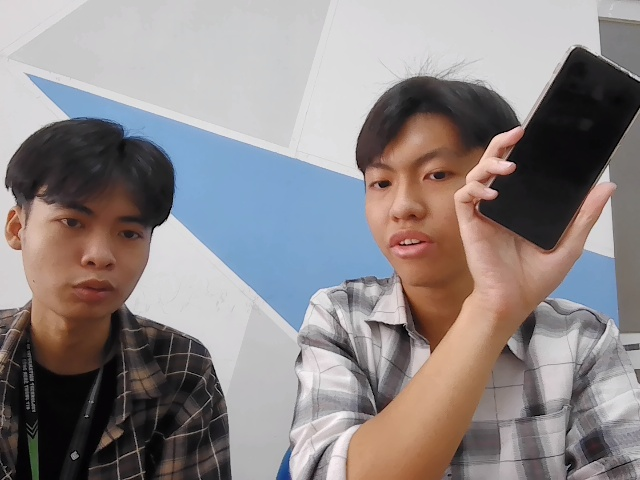human: (347, 75, 523, 288), (6, 119, 186, 319)
phone: (476, 24, 635, 246)
